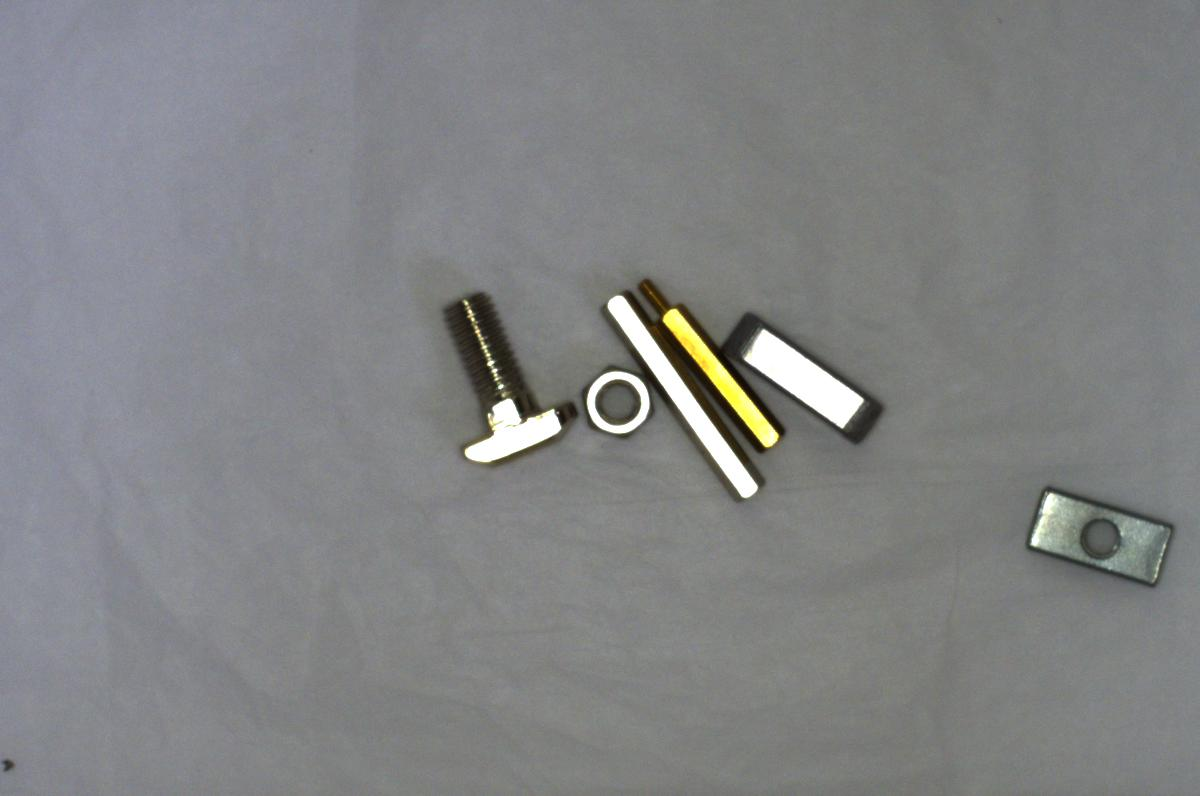Double hexagonal column: (592, 283, 766, 510)
Hexagon nut: (575, 361, 657, 441)
Hexagon pillar: (635, 274, 785, 450)
Keybar: (722, 308, 880, 443)
Rectangular nut: (1018, 479, 1177, 589)
T-shaped screw: (441, 287, 566, 473)
